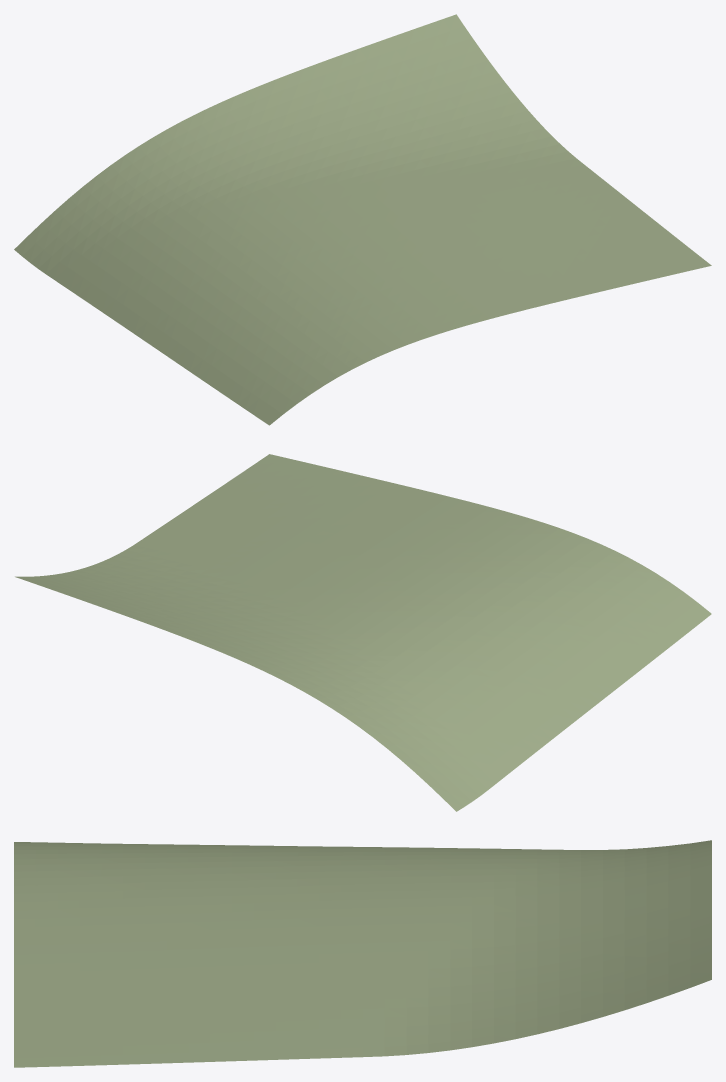
Rendered from expanse-15-10.glb.
3 views of the same model, one above another, from view 1: azimuth 30°, elevation 25°; view 2: azimuth 150°, elevation 25°; view 3: azimuth 270°, elevation 25° (orthographic). The views are drawn at different scales.
Parts seen in each view (by area): view 1: expanse-15-10; view 2: expanse-15-10; view 3: expanse-15-10.
Part boxes in pixels (bbox=[...]): expanse-15-10: bbox=[14, 14, 711, 425]; expanse-15-10: bbox=[15, 454, 711, 811]; expanse-15-10: bbox=[14, 840, 711, 1067].
Size of the model in its own units: 256 by 71.29 by 256.
